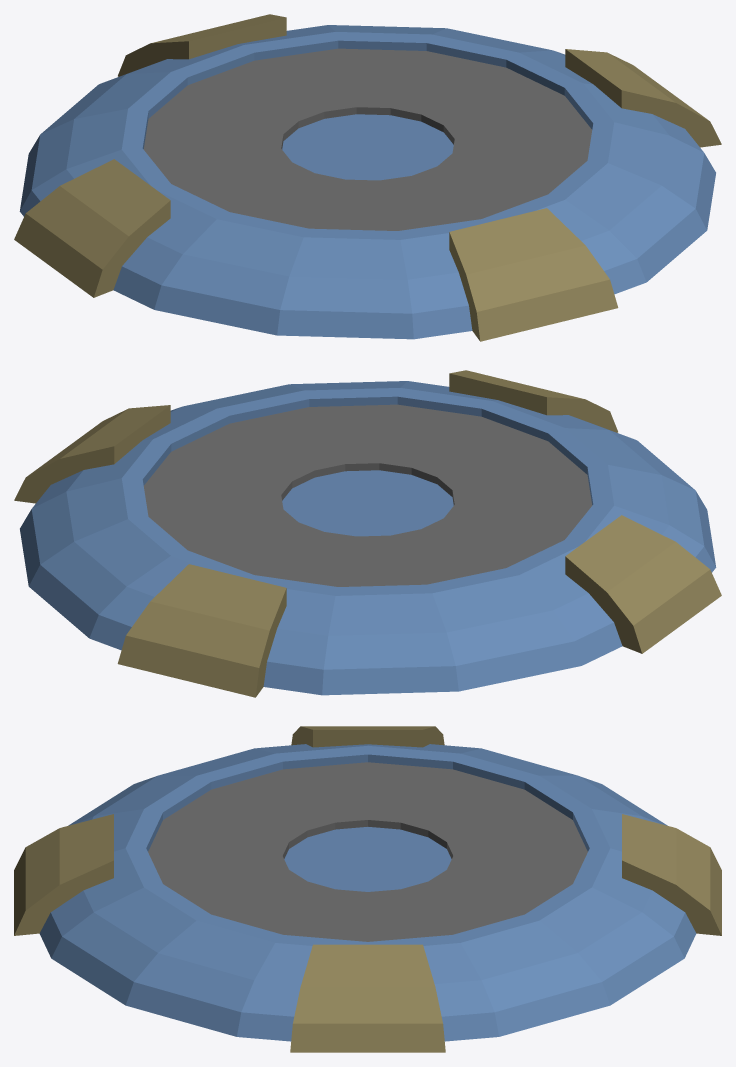
The model's file is teleporter.obj.
3 renders of one model, top to bottom at view 1: azimuth 30°, elevation 25°; view 2: azimuth 150°, elevation 25°; view 3: azimuth 270°, elevation 25°, orthographic. The views are drawn at different scales.
Parts seen in each view (by area): view 1: 球; view 2: 球; view 3: 球.
Boxes of the visible parts, x1,y1,x2,y2 form: 球: (14, 14, 721, 341); 球: (14, 370, 721, 697); 球: (14, 726, 721, 1052).
Bounding box in the file's own units: 8.26 × 0.8485 × 8.26.
1 material, 1 textured.
